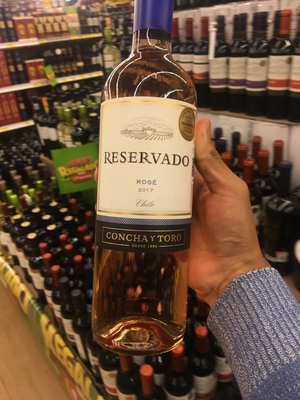reservado rose: (83, 12, 206, 352)
